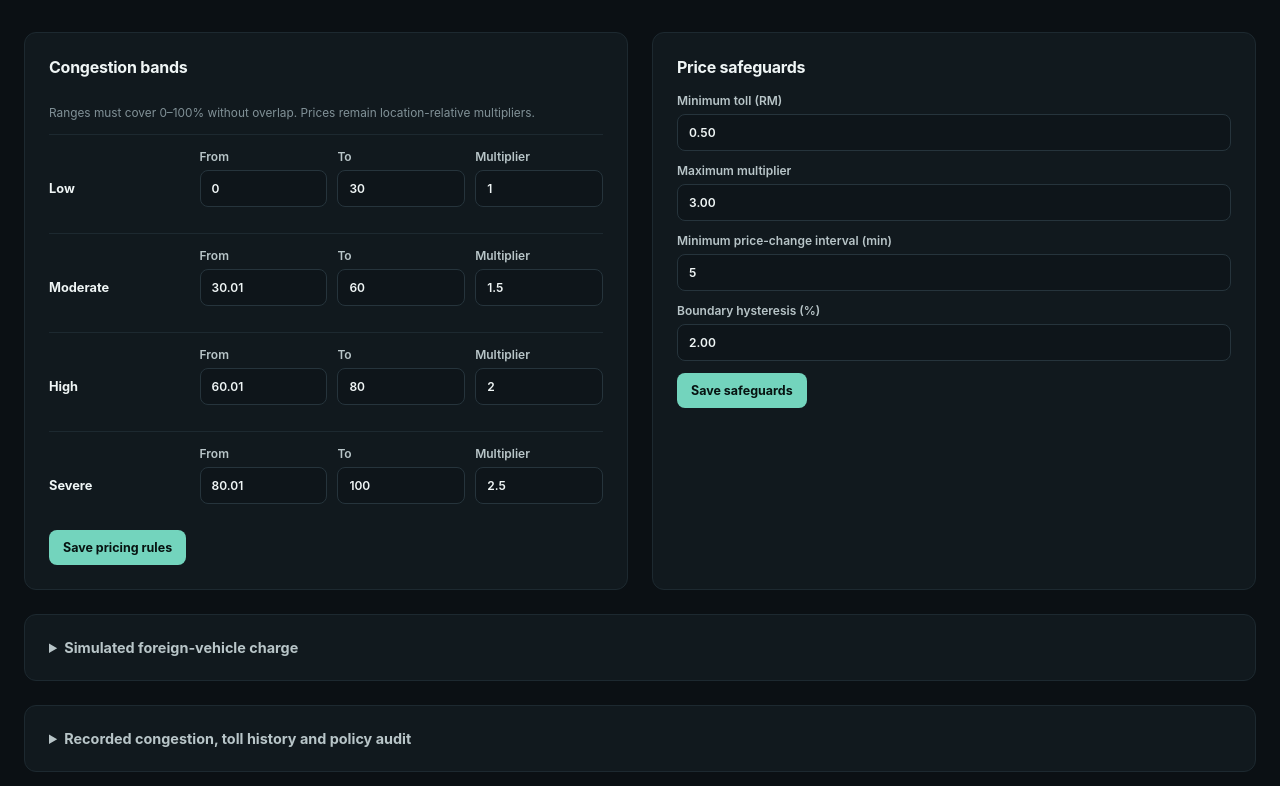
Test case: congestion pricing form › rejects integer gaps before making a save request
Step 1. Replace the text in the number field named "moderate minimum" with "31" → (264, 288), box [200, 269, 327, 306]
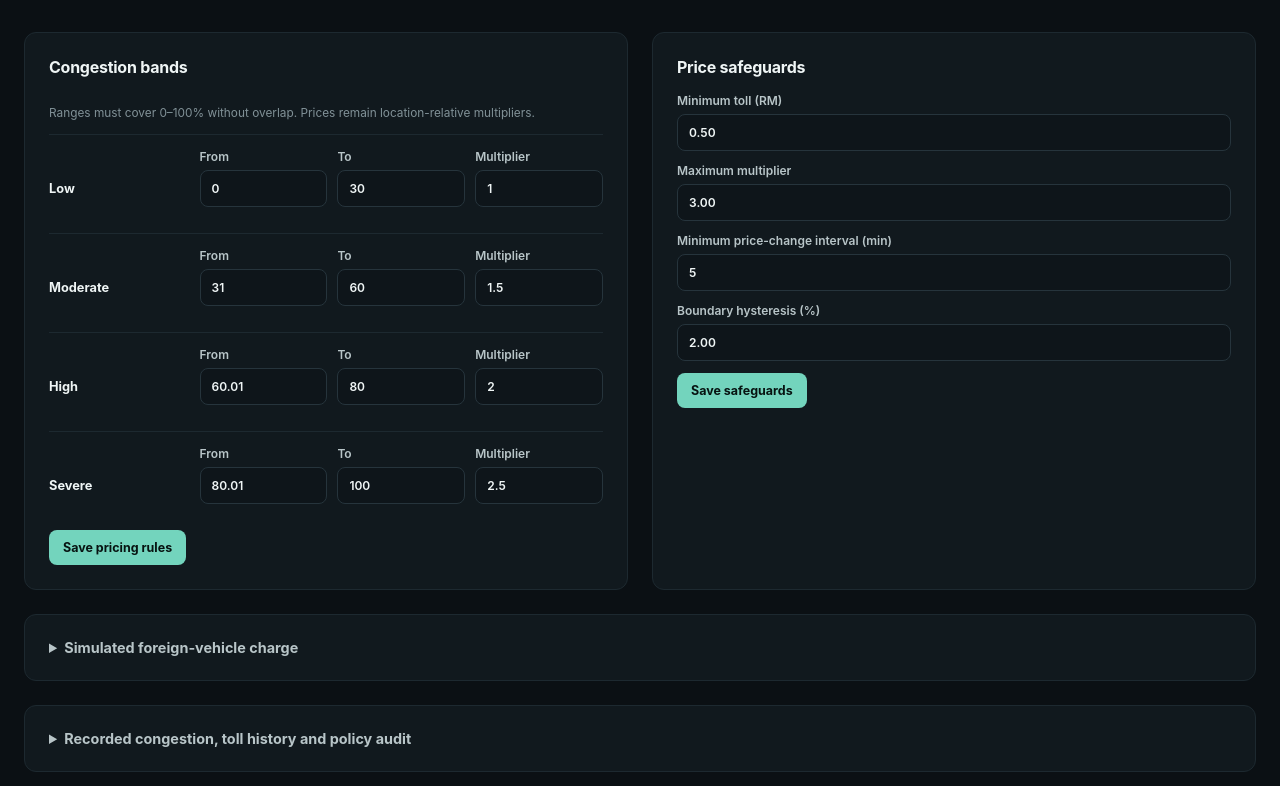
Step 2. Click the button "Save pricing rules" → click(118, 548), box [49, 530, 186, 565]
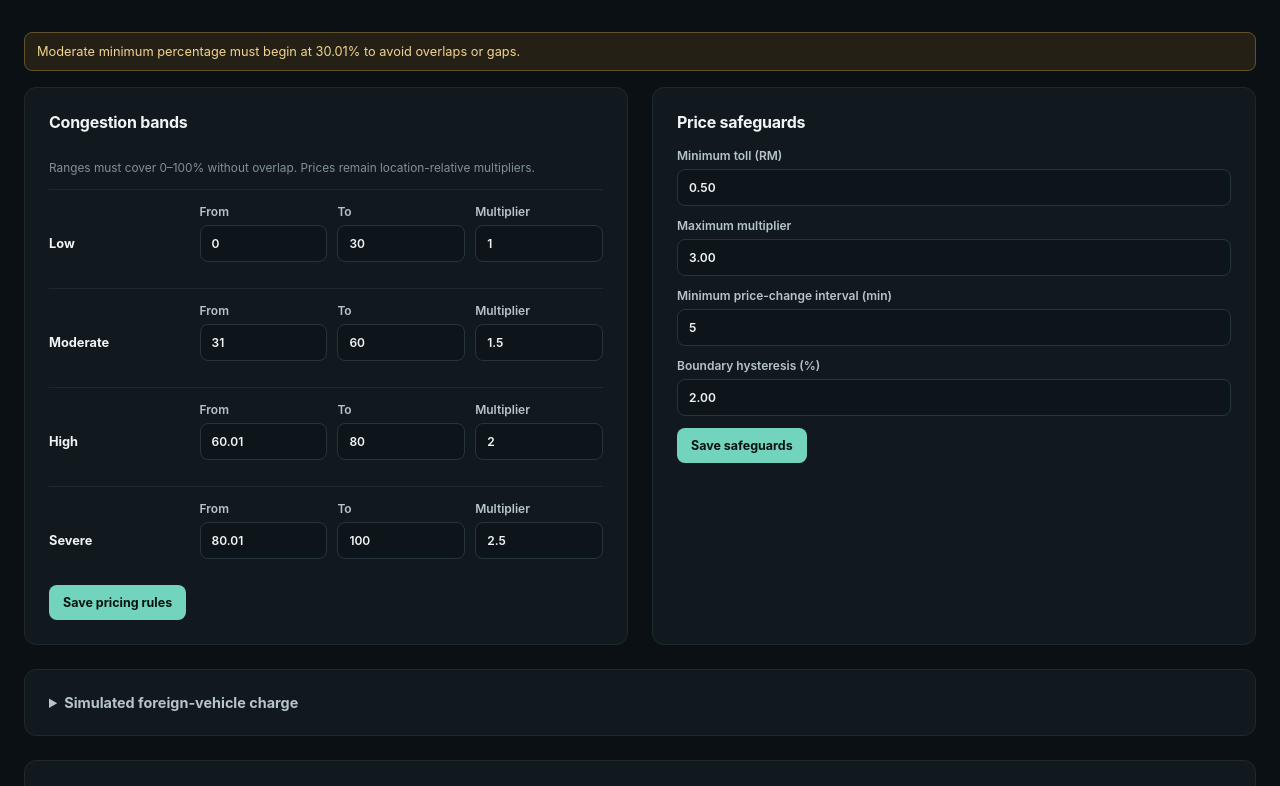
expect the message shows "30.01%": met, box [37, 44, 520, 59]
